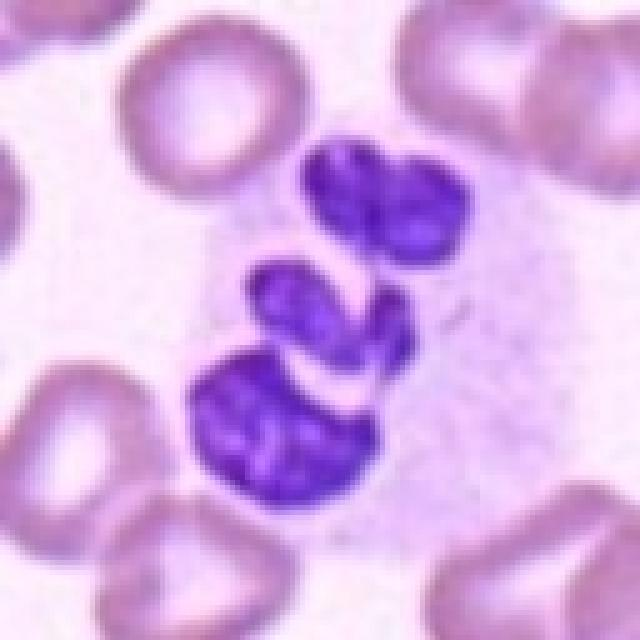neutro: (94, 49, 567, 548)
